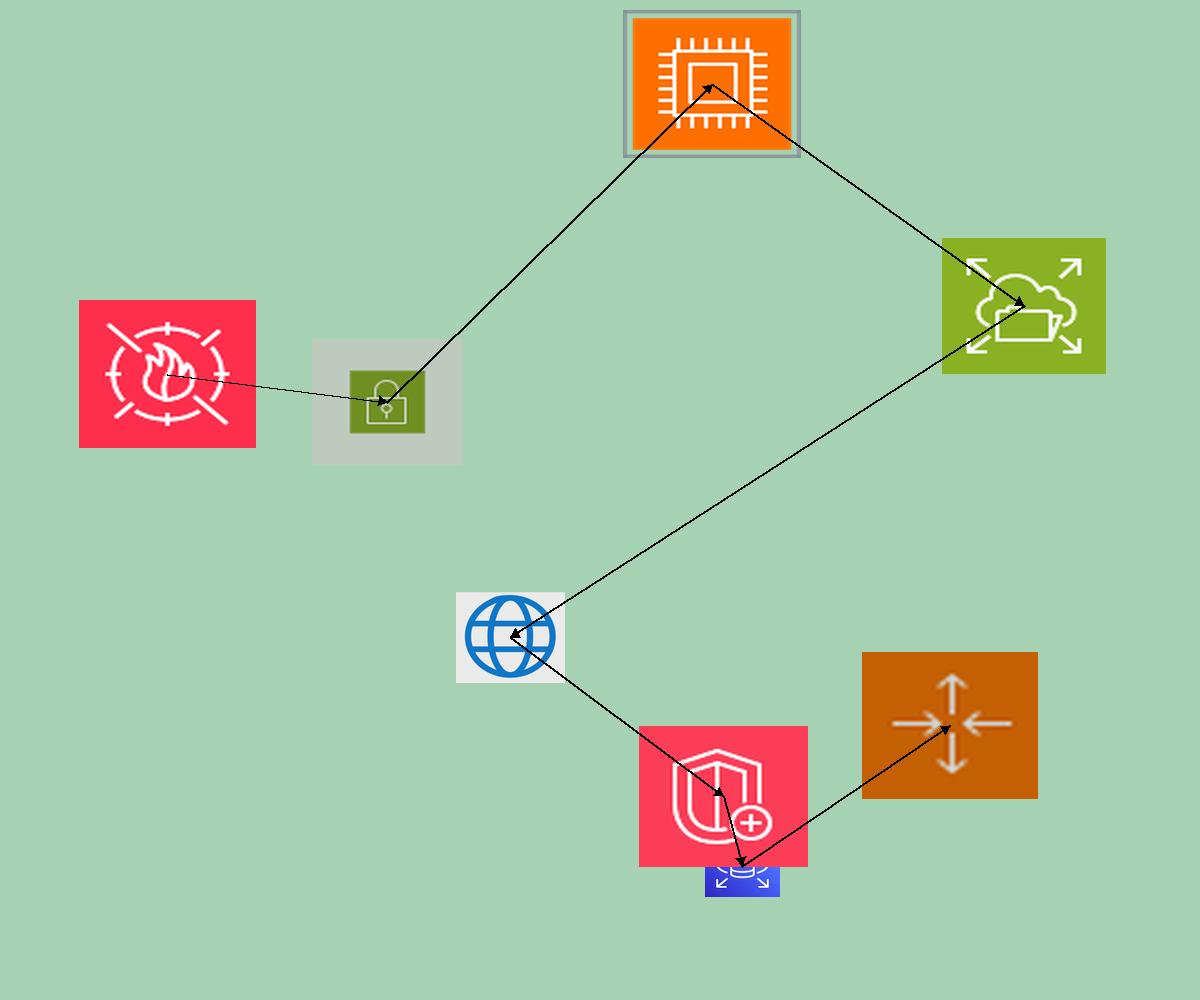AWS-Category_Compute: (623, 10, 801, 158)
AWS-EFS: (942, 238, 1106, 374)
AWS-Public-subnet: (312, 339, 463, 465)
AWS-RDS: (705, 835, 780, 897)
AWS-Scaling-group: (862, 652, 1038, 799)
AWS-Shield: (639, 726, 808, 867)
AWS-WAF: (79, 300, 256, 448)
Azure_http: (456, 592, 565, 683)
